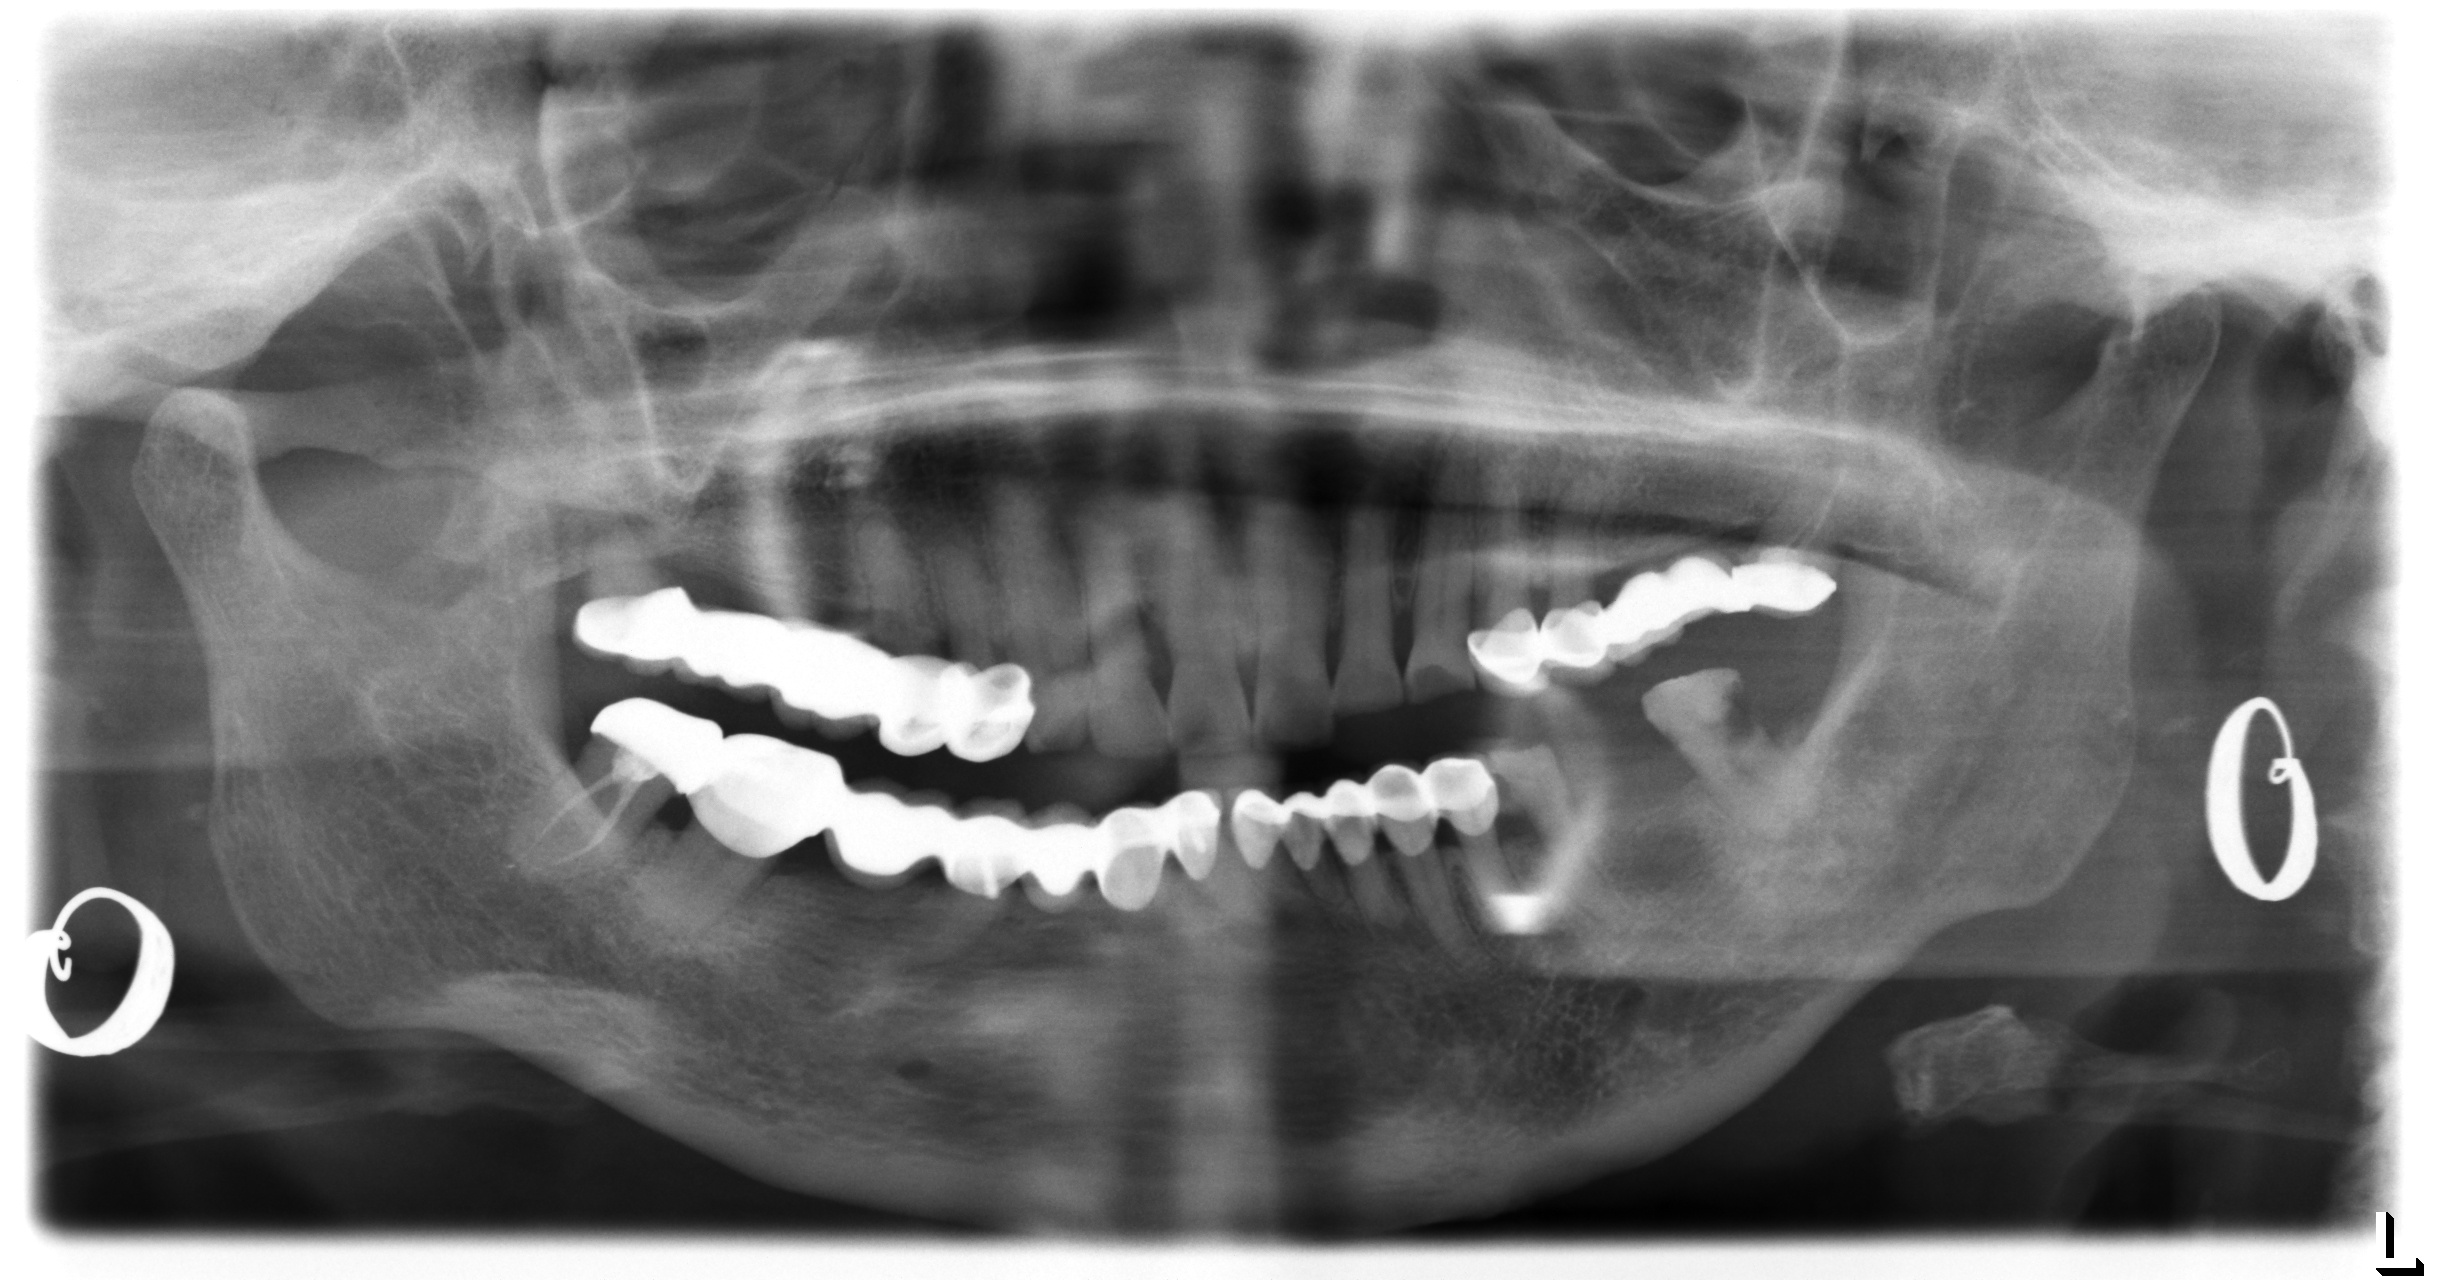Decay: (1699, 667, 1765, 755)
